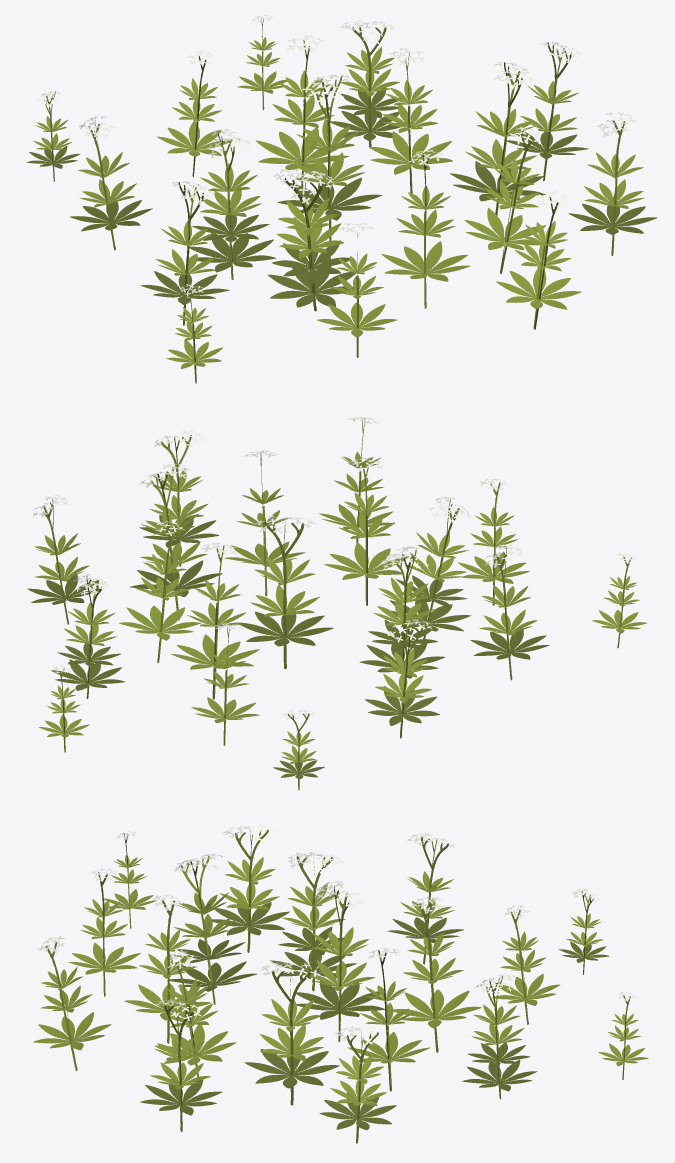
Rendered from Woodruff_Cluster_2.fbx.
The picture shows the model from 3 angles, top to bottom: view 1: azimuth 30°, elevation 25°; view 2: azimuth 150°, elevation 25°; view 3: azimuth 270°, elevation 25°; orthographic projection. The views are drawn at different scales.
Visible parts, largest first — view 1: Woodruff_Cluster_2; view 2: Woodruff_Cluster_2; view 3: Woodruff_Cluster_2.
Boxes of the visible parts, box(x1,y1,x2,y2) form: Woodruff_Cluster_2: box(26, 15, 657, 383); Woodruff_Cluster_2: box(27, 417, 647, 790); Woodruff_Cluster_2: box(33, 824, 648, 1143).
Bounding box in the file's own units: 140 × 40.24 × 152.
Materials: 1 (1 with a texture image).
